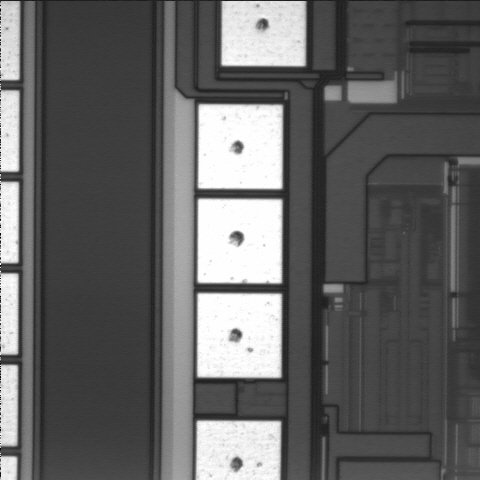pad: (198, 104, 283, 189), (197, 293, 282, 378), (197, 199, 282, 283)
